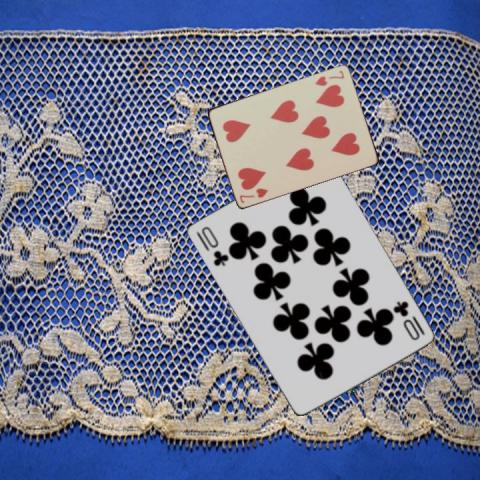10c: (193, 223, 230, 268), (390, 297, 426, 342)
7h: (312, 68, 346, 88), (237, 185, 269, 204)
